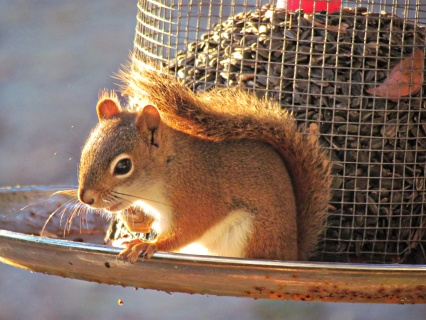Squirrel: (21, 51, 333, 263)
